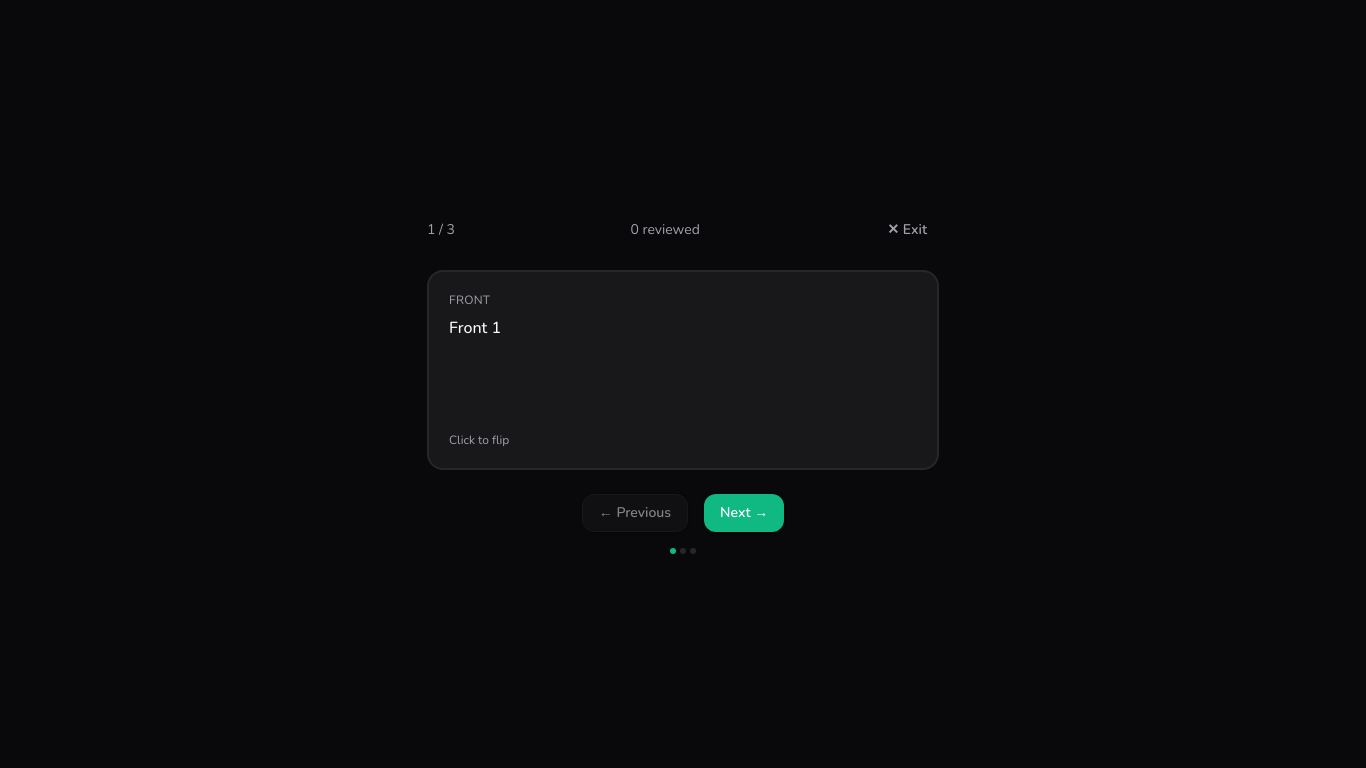
Test: FlashCardStudyMode › navigates back to previous card
Click the button "Next →": {"x": 744, "y": 513} [704,494,784,532]
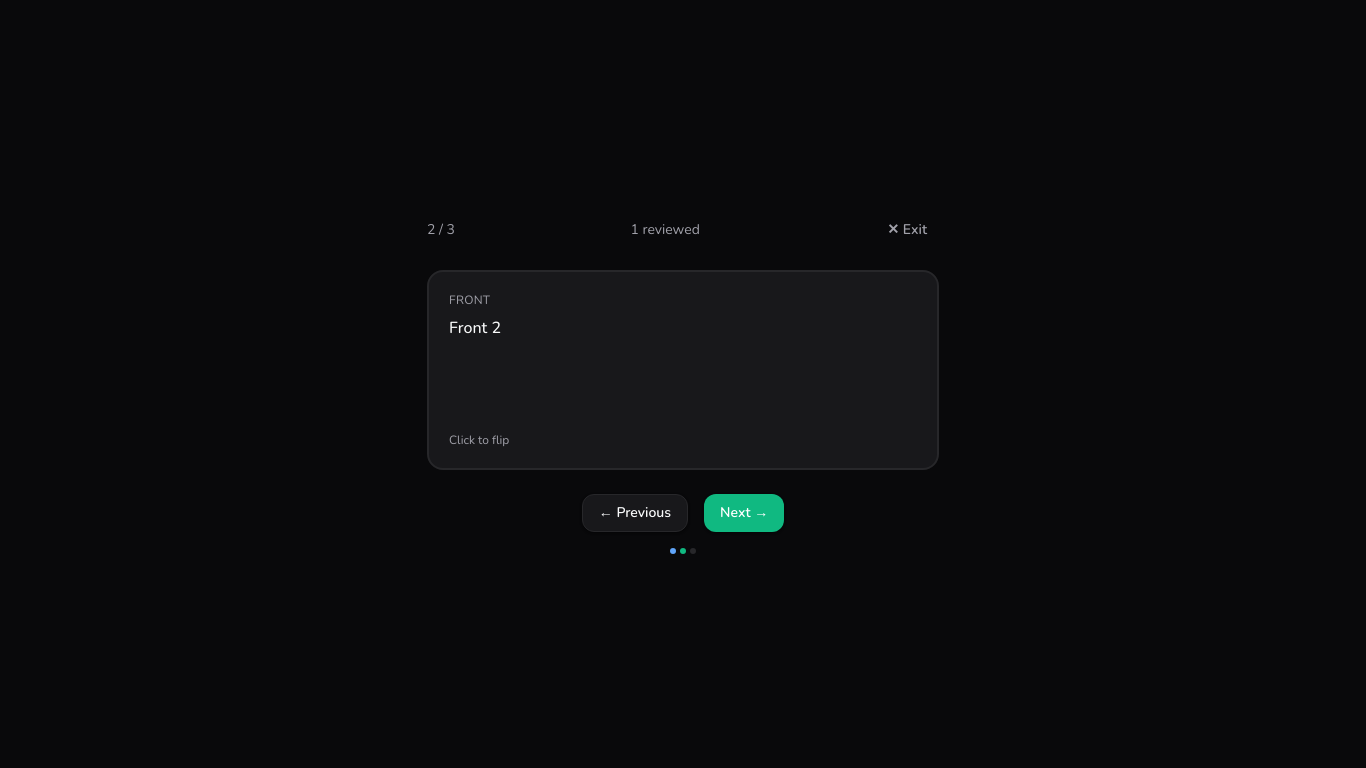
Result: the text "2 / 3" is shown at [427,220,455,240]
Click the button "← Previous": {"x": 635, "y": 513} [582,494,688,532]
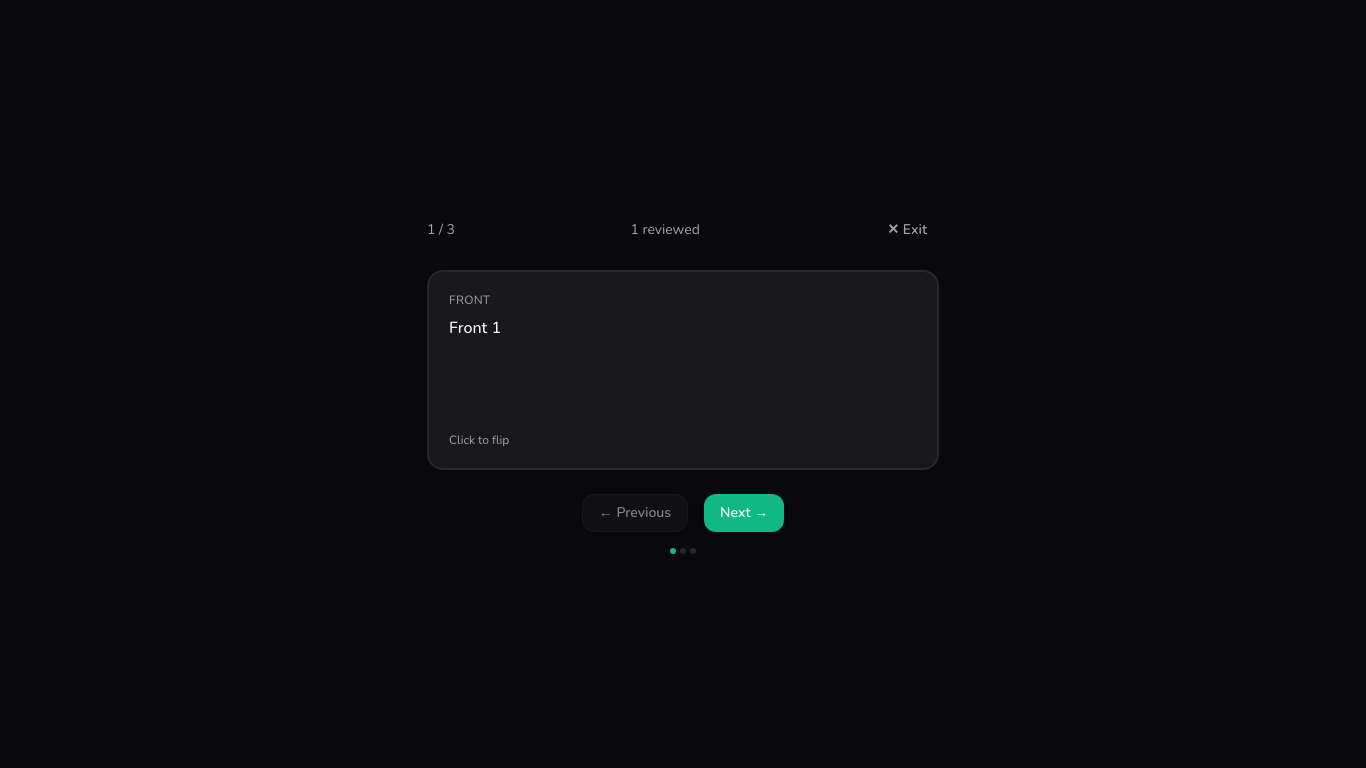
Result: the text "1 / 3" is shown at [427,220,455,240]
